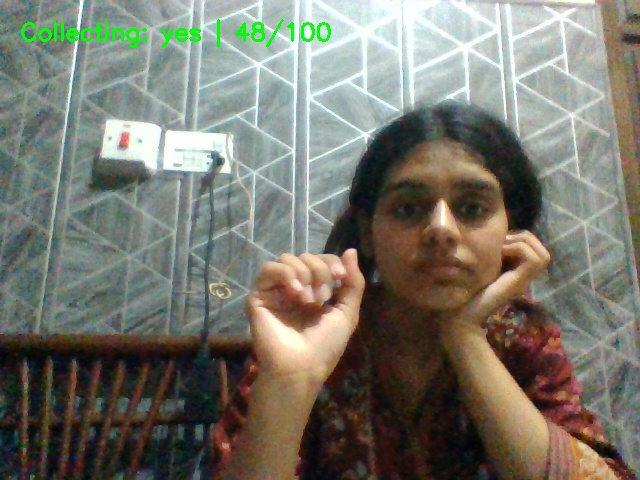yes: (244, 238, 394, 400)
